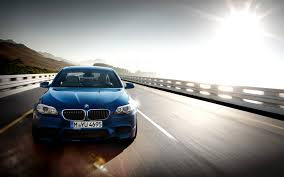car: (29, 64, 142, 148)
